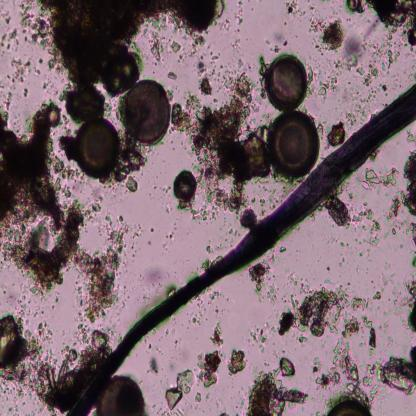Background material: (0, 102, 89, 296), (40, 0, 226, 84), (167, 74, 270, 214), (33, 324, 107, 410), (72, 217, 131, 323), (0, 313, 54, 392), (276, 285, 346, 340), (313, 339, 371, 405), (246, 367, 308, 415), (365, 0, 416, 49), (341, 291, 379, 349), (358, 35, 402, 82), (374, 343, 416, 390), (389, 150, 416, 223), (20, 0, 52, 52), (115, 142, 150, 186), (4, 288, 49, 320), (312, 16, 348, 54), (50, 160, 80, 202), (247, 262, 278, 302), (195, 348, 222, 391), (352, 206, 380, 247), (346, 89, 376, 127), (165, 369, 194, 408), (326, 190, 352, 230), (2, 58, 31, 90), (178, 32, 208, 62), (359, 167, 398, 189), (402, 274, 416, 332), (247, 322, 272, 354), (233, 1, 244, 71), (139, 265, 168, 290), (340, 37, 363, 67), (226, 348, 249, 376), (58, 134, 78, 165), (327, 118, 347, 147), (286, 271, 310, 295), (1, 17, 19, 49), (79, 192, 102, 217), (128, 219, 141, 261), (189, 294, 206, 326), (192, 206, 219, 225), (317, 75, 339, 98), (383, 297, 408, 317), (274, 356, 296, 378), (163, 223, 178, 253), (258, 56, 268, 100), (149, 34, 164, 63), (242, 207, 258, 232), (306, 53, 323, 76), (379, 271, 396, 293), (235, 385, 249, 411), (210, 13, 230, 30), (272, 29, 285, 54), (286, 0, 304, 18), (409, 222, 416, 268), (199, 74, 213, 97), (50, 78, 66, 98), (151, 180, 171, 196), (211, 323, 224, 347), (402, 62, 416, 84), (347, 0, 365, 17), (329, 58, 345, 77), (148, 352, 160, 376), (382, 211, 392, 238), (156, 407, 185, 416), (126, 176, 140, 194), (32, 57, 44, 78), (206, 238, 220, 256), (5, 403, 24, 416), (393, 281, 404, 300), (337, 254, 350, 270), (50, 291, 61, 309), (384, 336, 400, 348), (307, 4, 319, 20), (269, 187, 279, 206), (359, 248, 372, 262), (377, 321, 391, 334), (306, 66, 312, 96), (406, 126, 416, 143), (378, 80, 390, 94), (381, 256, 392, 270), (170, 40, 181, 54), (5, 93, 14, 110), (260, 36, 272, 48), (206, 290, 219, 301), (259, 196, 270, 209), (329, 6, 339, 20), (216, 398, 227, 410), (345, 15, 354, 29), (337, 240, 348, 251), (142, 292, 152, 304), (167, 71, 179, 81), (171, 318, 178, 335), (321, 278, 335, 286), (230, 226, 241, 236), (198, 62, 208, 73), (170, 359, 179, 371), (352, 262, 361, 274), (17, 392, 28, 401), (220, 218, 228, 230), (394, 243, 405, 251), (162, 326, 170, 336), (328, 237, 338, 244), (23, 87, 29, 98), (281, 294, 288, 303), (147, 341, 153, 351), (282, 38, 288, 48), (195, 393, 201, 403), (150, 403, 159, 409), (158, 345, 164, 354), (279, 246, 286, 253), (374, 293, 381, 300), (346, 80, 352, 88), (205, 393, 211, 401), (173, 340, 182, 345), (374, 304, 380, 311), (220, 411, 228, 416), (326, 264, 331, 272), (193, 405, 201, 410), (149, 225, 154, 233), (365, 18, 371, 24), (345, 283, 353, 287), (365, 267, 369, 275), (392, 228, 396, 236), (158, 336, 164, 341), (370, 277, 374, 284), (215, 308, 219, 315), (321, 0, 329, 3), (234, 413, 242, 416), (331, 0, 337, 4), (148, 241, 152, 244), (284, 21, 286, 27)
Cellulose filter fibre: (397, 216, 410, 235)
Cotton: (67, 86, 416, 416)
Diatom: (267, 112, 321, 175), (124, 78, 169, 144), (76, 118, 122, 178), (266, 54, 309, 112), (97, 374, 148, 415), (104, 52, 140, 92), (172, 169, 197, 203), (325, 399, 372, 414), (44, 106, 63, 125)
